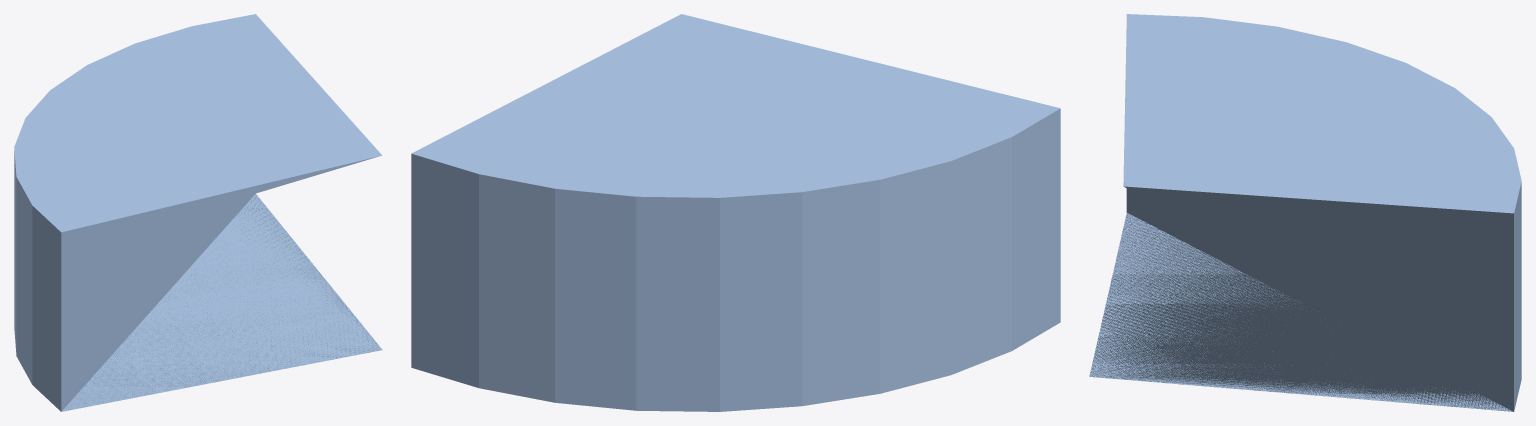
The model's file is third_ice_disk.fbx.
3 views of the same model, side by side, from view 1: azimuth 30°, elevation 25°; view 2: azimuth 150°, elevation 25°; view 3: azimuth 270°, elevation 25° (orthographic). The views are drawn at different scales.
Visible parts, largest first — view 1: Cylinder; view 2: Cylinder; view 3: Cylinder.
Part boxes in pixels (x1,y1,x2,y2): Cylinder: (14,14,382,411); Cylinder: (411,14,1060,411); Cylinder: (1089,14,1521,411).
Size of the model in its own units: 259 by 120 by 237.
